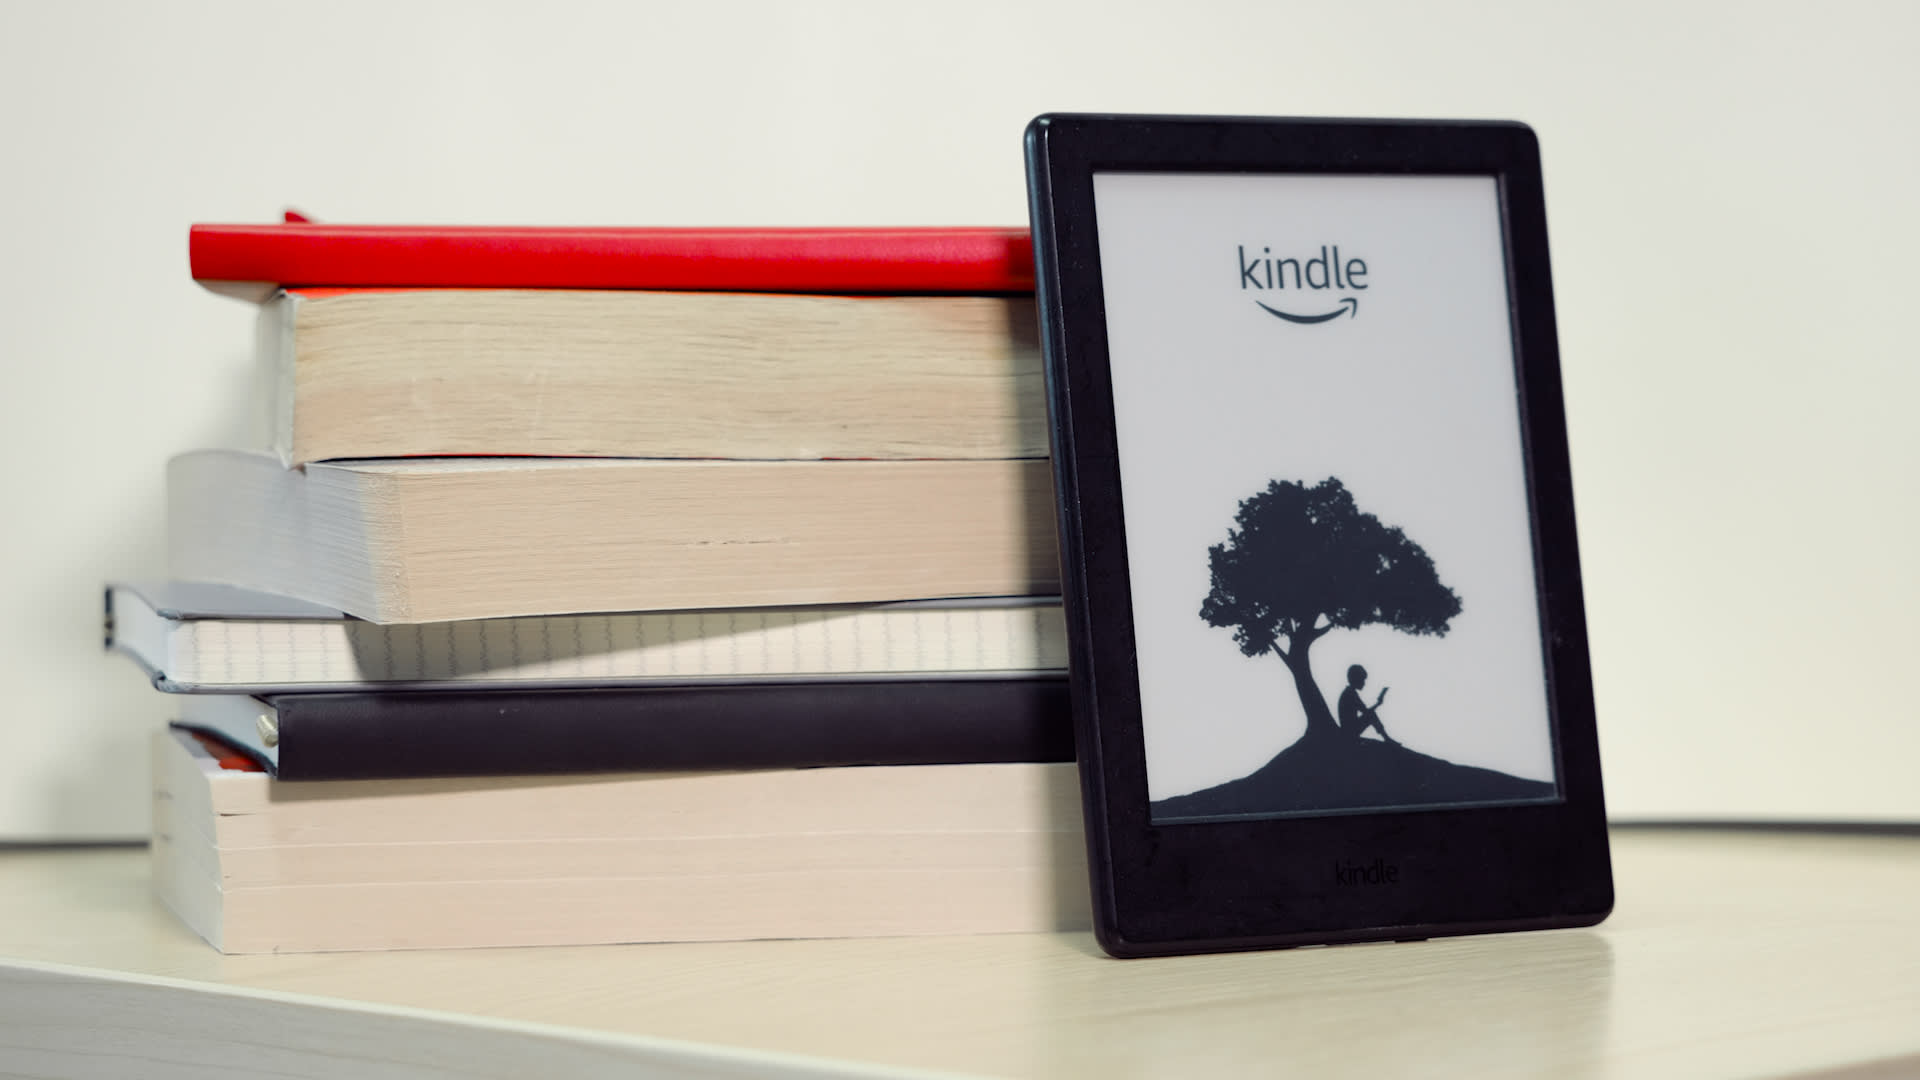book: (1025, 107, 1614, 961), (152, 720, 1091, 959), (162, 448, 1062, 626), (248, 286, 1048, 471), (99, 576, 1071, 698), (166, 692, 1083, 782), (189, 212, 1100, 290)
